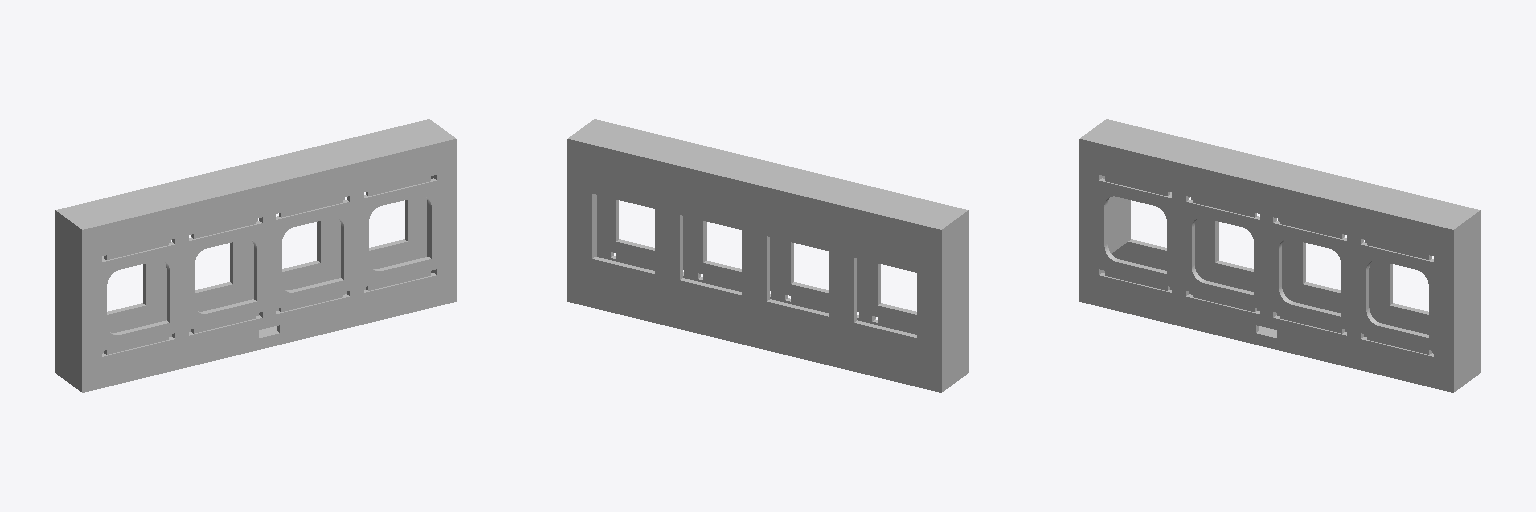
File: TonneV2.obj
3 views of the same model, side by side, from view 1: azimuth 30°, elevation 25°; view 2: azimuth 150°, elevation 25°; view 3: azimuth 330°, elevation 25° (orthographic).
Parts seen in each view (by area): view 1: Deckel, Boden, Backplate, Links; view 2: Boden, Deckel, Backplate, Links; view 3: Deckel, Boden, Backplate, Rechts, LochAbdeckungLinks.
Boxes of the visible parts, x1=… form: Deckel: x1=79, y1=136, x2=456, y2=392; Boden: x1=55, y1=119, x2=431, y2=375; Backplate: x1=59, y1=121, x2=452, y2=232; Links: x1=59, y1=219, x2=78, y2=383; Boden: x1=567, y1=136, x2=944, y2=392; Deckel: x1=592, y1=119, x2=968, y2=375; Backplate: x1=571, y1=121, x2=964, y2=232; Links: x1=945, y1=219, x2=964, y2=383; Deckel: x1=1079, y1=136, x2=1456, y2=392; Boden: x1=1104, y1=119, x2=1480, y2=375; Backplate: x1=1083, y1=121, x2=1476, y2=232; Rechts: x1=1457, y1=219, x2=1476, y2=383; LochAbdeckungLinks: x1=1108, y1=196, x2=1127, y2=253.
Bounding box in the file's own units: 1200 × 500 × 150.